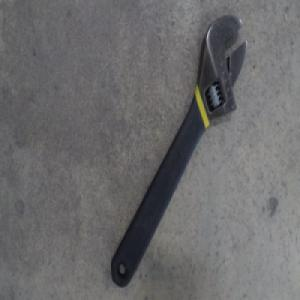AdjustableWrench: (110, 15, 247, 285)
